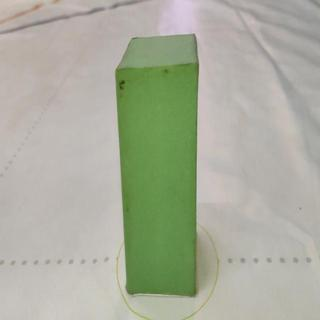greenbox: (115, 34, 202, 298)
